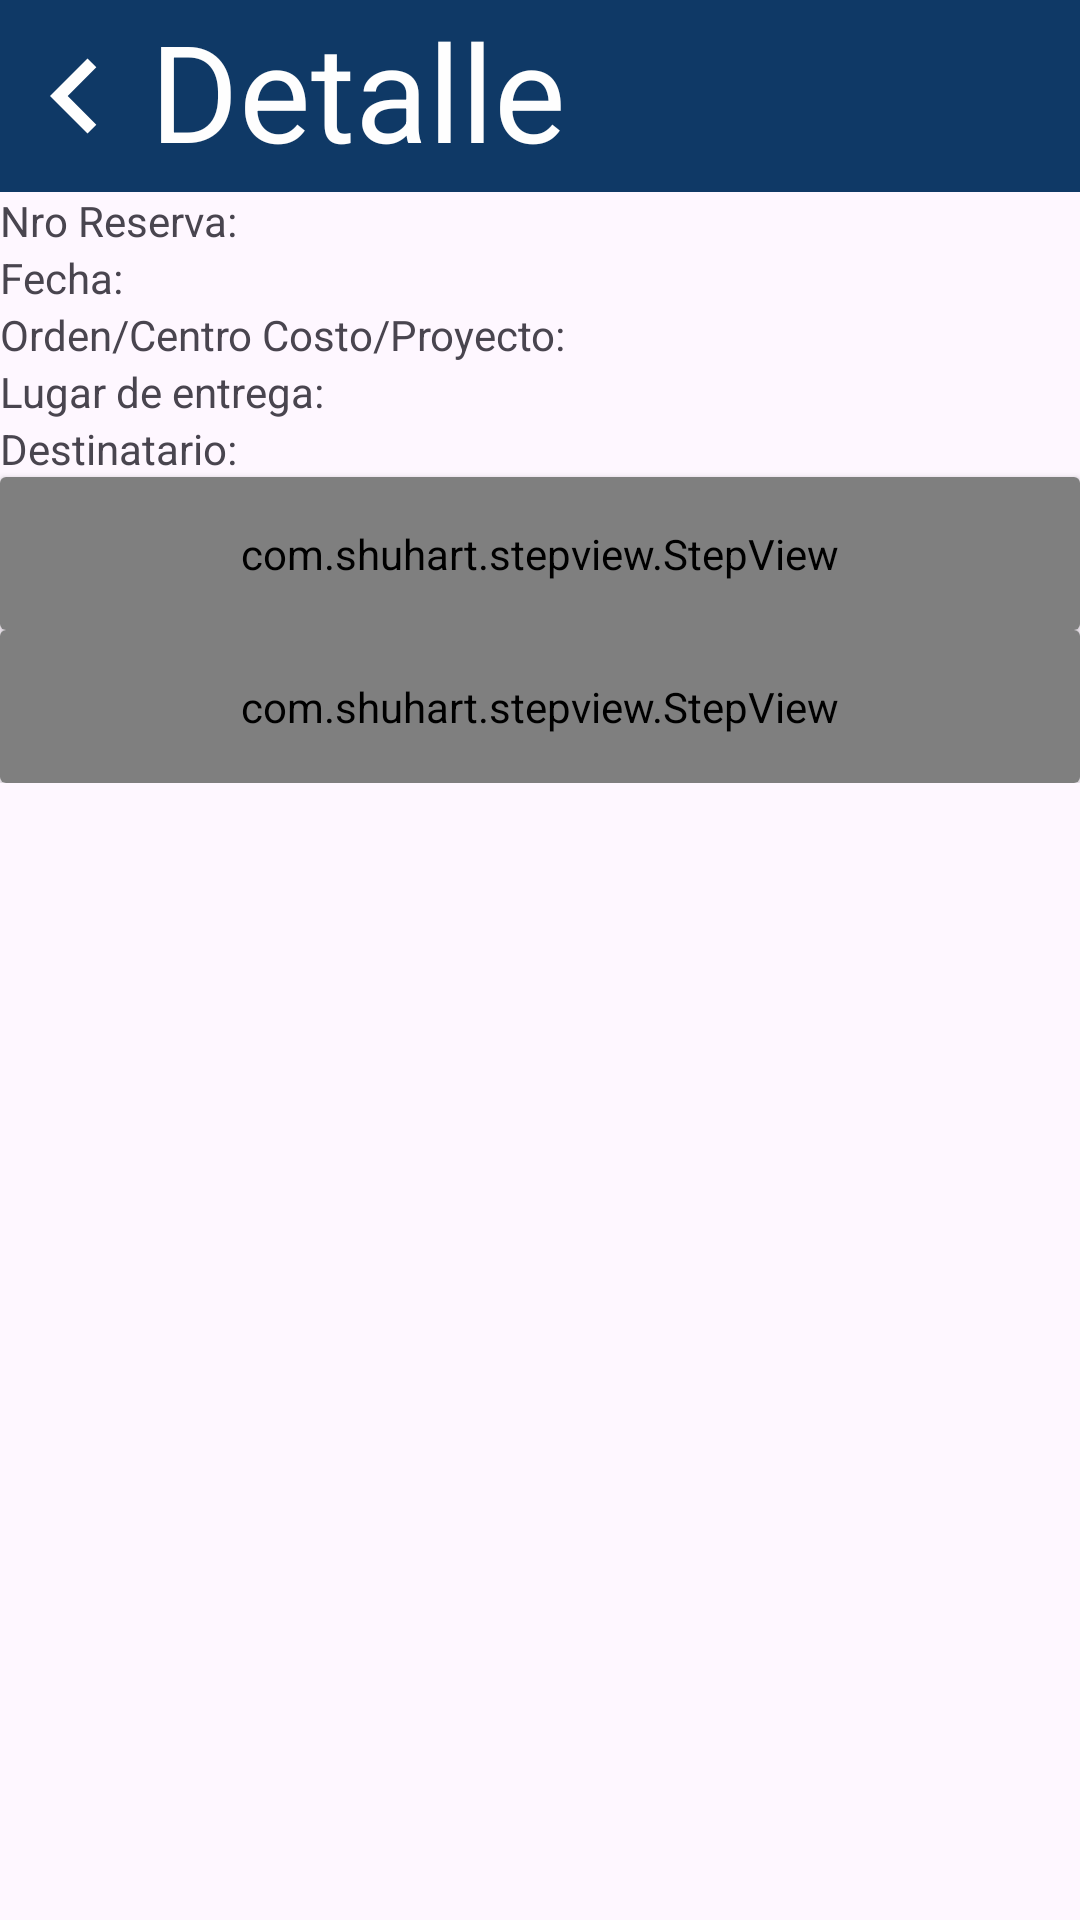

Named icons in this screenshot (1080 x 1920) and their bounding boxes, [left=x1, top=y1, right=x2, bottom=y2]:
back: [left=50, top=58, right=96, bottom=134]
